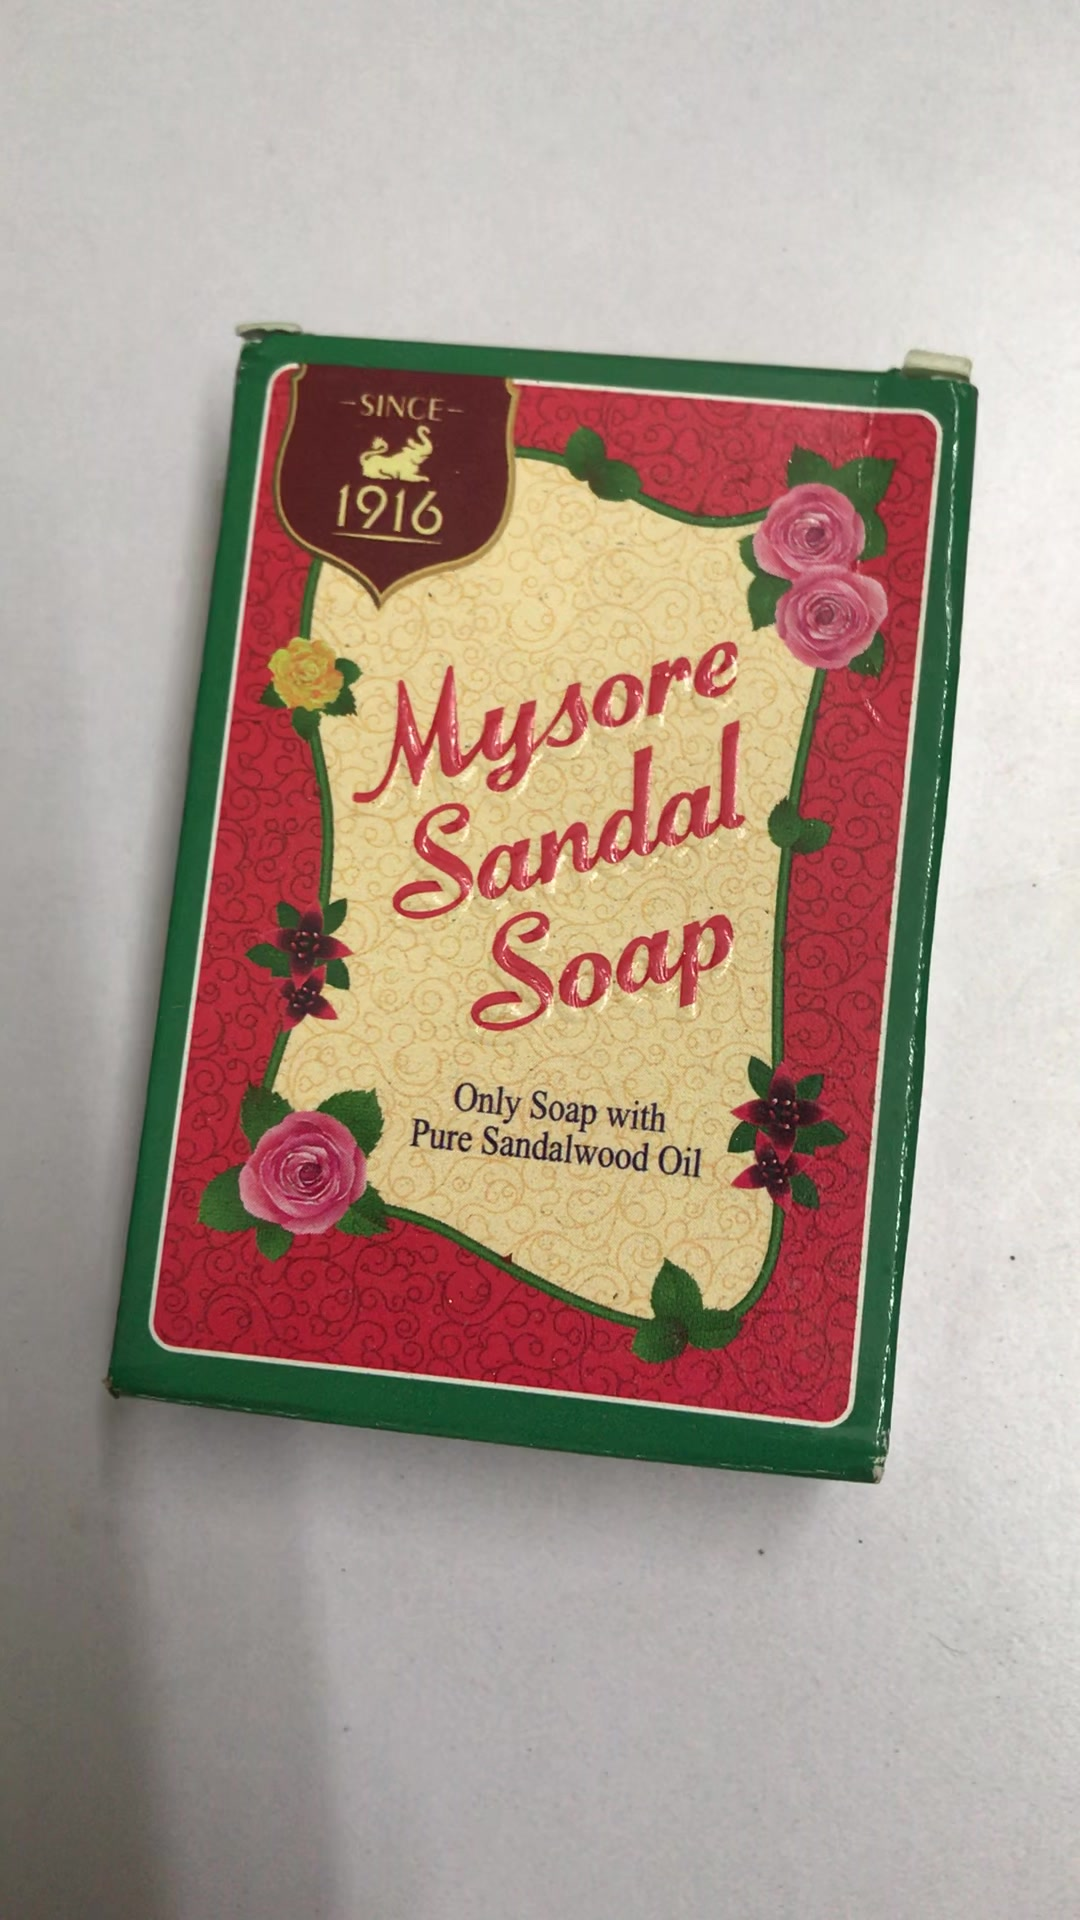mysore sandal soap: (107, 331, 976, 1481)
